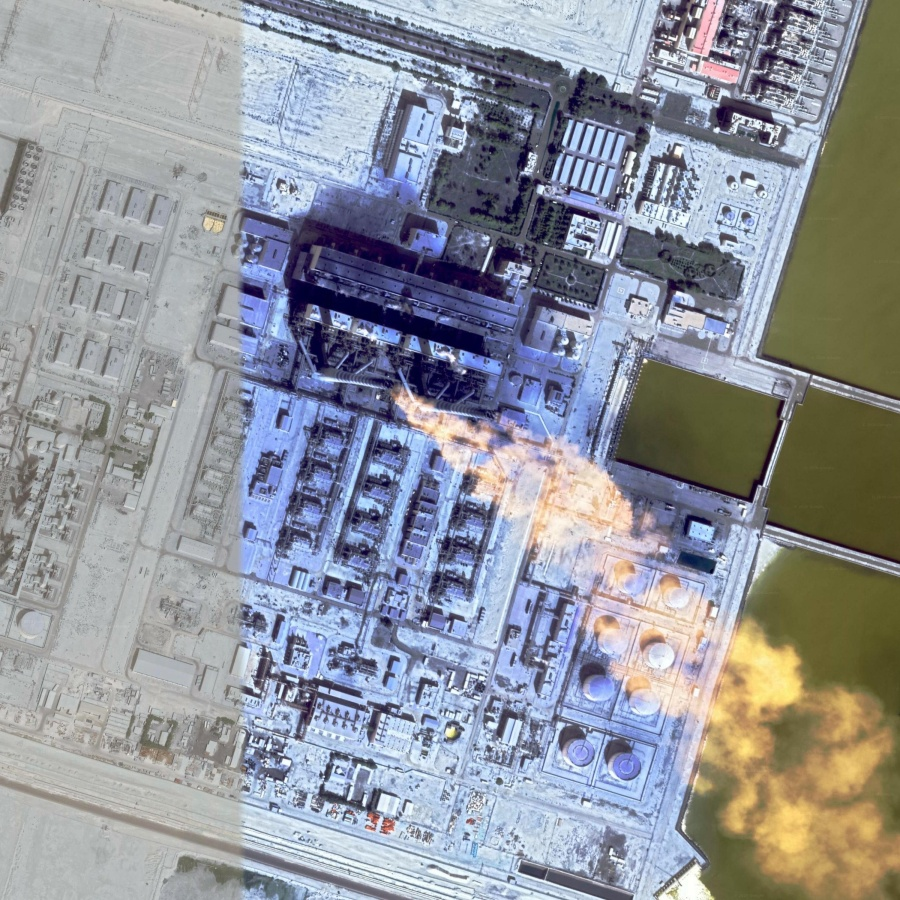PowerPlant: (181, 192, 729, 824)
